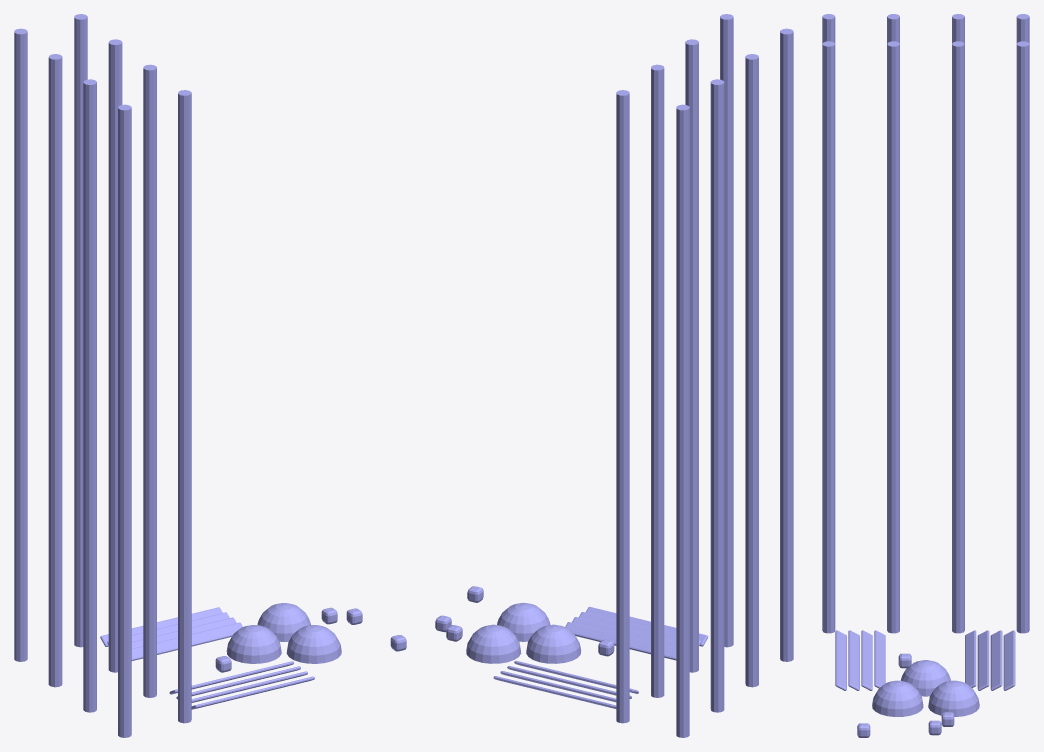
File: starlink.fbx
The picture shows the model from 3 angles, left to right: view 1: azimuth 30°, elevation 25°; view 2: azimuth 150°, elevation 25°; view 3: azimuth 270°, elevation 25°; orthographic projection. The views are drawn at different scales.
Visible parts, largest first — view 1: Cylinder_8, Sphere, Cube_4, Cube_3; view 2: Cylinder_8, Sphere, Cube_4, Cube_3; view 3: Cylinder_8, Cube_4, Sphere, Cube_3.
Part boxes in pixels (left/top/right/bottom): Cylinder_8: left=14, top=14, right=191, bottom=737; Sphere: left=226, top=603, right=341, bottom=663; Cube_4: left=100, top=607, right=314, bottom=709; Cube_3: left=215, top=607, right=406, bottom=672; Cylinder_8: left=616, top=14, right=793, bottom=737; Sphere: left=466, top=602, right=580, bottom=663; Cube_4: left=493, top=607, right=708, bottom=708; Cube_3: left=435, top=586, right=614, bottom=656; Cylinder_8: left=822, top=14, right=1029, bottom=633; Cube_4: left=835, top=630, right=1015, bottom=690; Sphere: left=872, top=660, right=979, bottom=716; Cube_3: left=857, top=653, right=954, bottom=737.
Bounding box in the file's own units: 5074 × 10000 × 3200.
